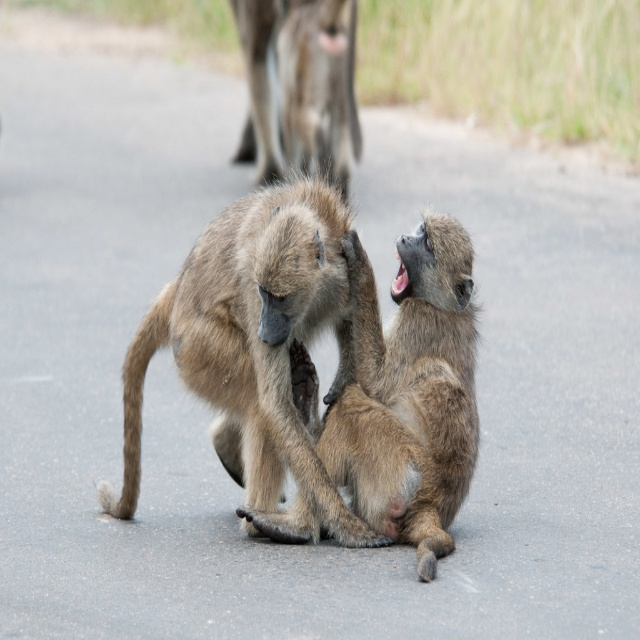Monkey: (92, 158, 396, 547), (235, 204, 489, 584), (226, 0, 366, 187), (273, 0, 352, 184)
